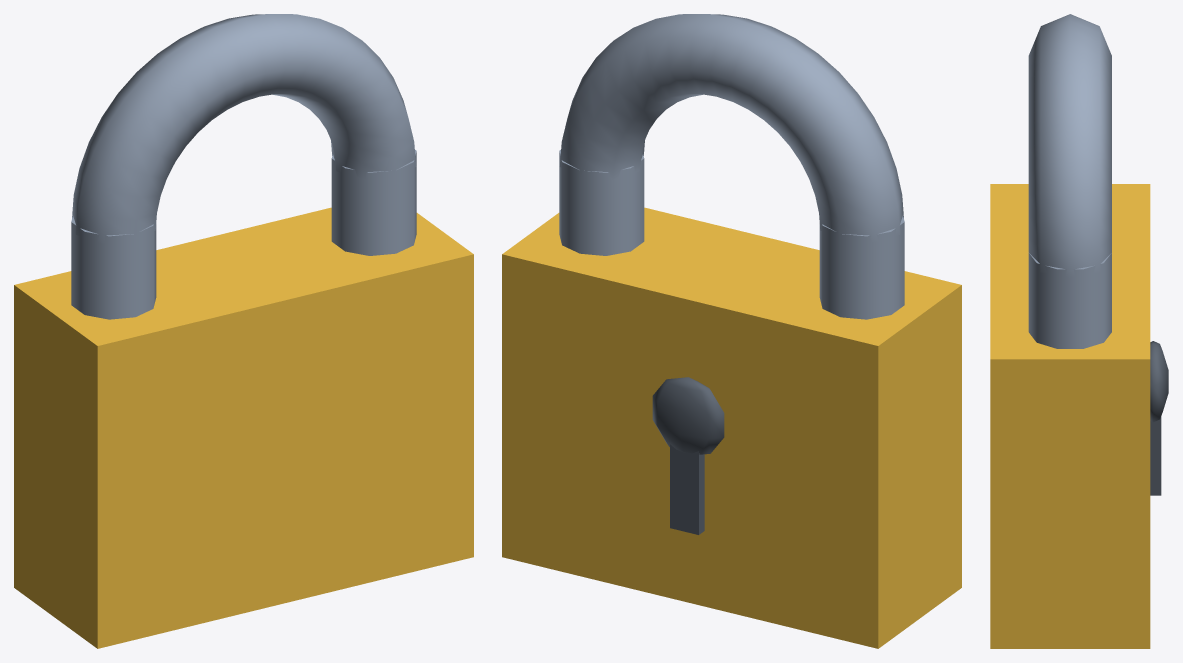
The model's file is Lock3D.glb.
3 views of the same model, side by side, from view 1: azimuth 30°, elevation 25°; view 2: azimuth 150°, elevation 25°; view 3: azimuth 270°, elevation 25° (orthographic). The views are drawn at different scales.
Parts seen in each view (by area): view 1: Body; view 2: Body; view 3: Body.
Boxes of the visible parts, x1=… form: Body: x1=14, y1=14, x2=473, y2=648; Body: x1=502, y1=14, x2=961, y2=648; Body: x1=990, y1=14, x2=1168, y2=648.
Bounding box in the file's own units: 1.3 × 1.83 × 0.5576.
1 material, 1 textured.
